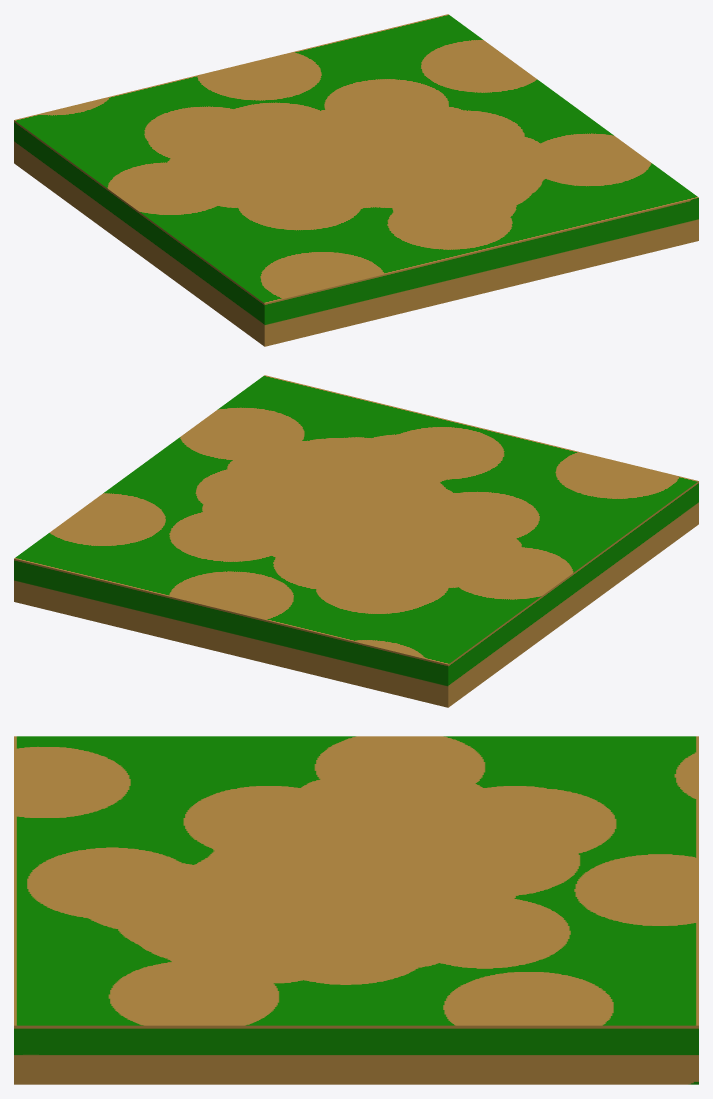
Rendered from road1.fbx.
The picture shows the model from 3 angles, top to bottom: view 1: azimuth 30°, elevation 25°; view 2: azimuth 150°, elevation 25°; view 3: azimuth 270°, elevation 25°; orthographic projection. The views are drawn at different scales.
Parts seen in each view (by area): view 1: road1; view 2: road1; view 3: road1.
Boxes of the visible parts, bbox=[...] form: road1: bbox=[14, 14, 698, 346]; road1: bbox=[14, 375, 698, 707]; road1: bbox=[14, 736, 698, 1084].
Bounding box in the file's own units: 2 × 0.1904 × 2.
Materials: 1 (1 with a texture image).
